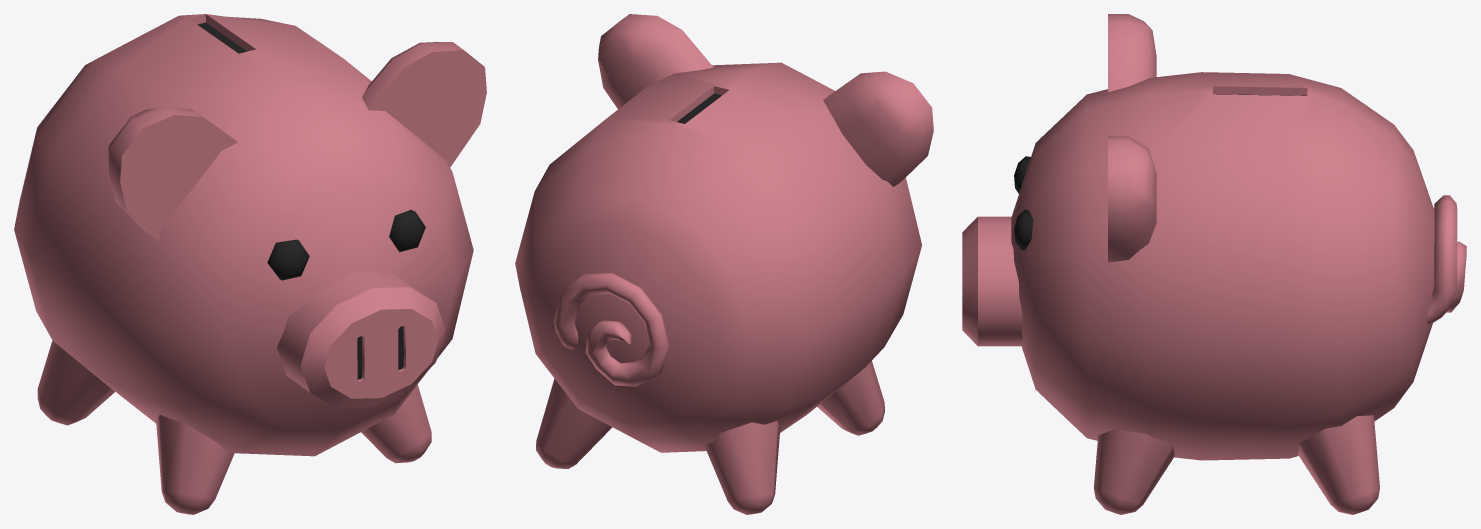
The model's file is PiggyBank_01.fbx.
3 renders of one model, left to right at view 1: azimuth 30°, elevation 25°; view 2: azimuth 150°, elevation 25°; view 3: azimuth 270°, elevation 25°, orthographic. The views are drawn at different scales.
Parts seen in each view (by area): view 1: PiggyBank_01; view 2: PiggyBank_01; view 3: PiggyBank_01.
Part boxes in pixels (x1,y1,x2,y2): PiggyBank_01: [14, 14, 486, 514]; PiggyBank_01: [515, 14, 933, 514]; PiggyBank_01: [962, 14, 1466, 514].
Bounding box in the file's own units: 0.213 × 0.2263 × 0.2712.
